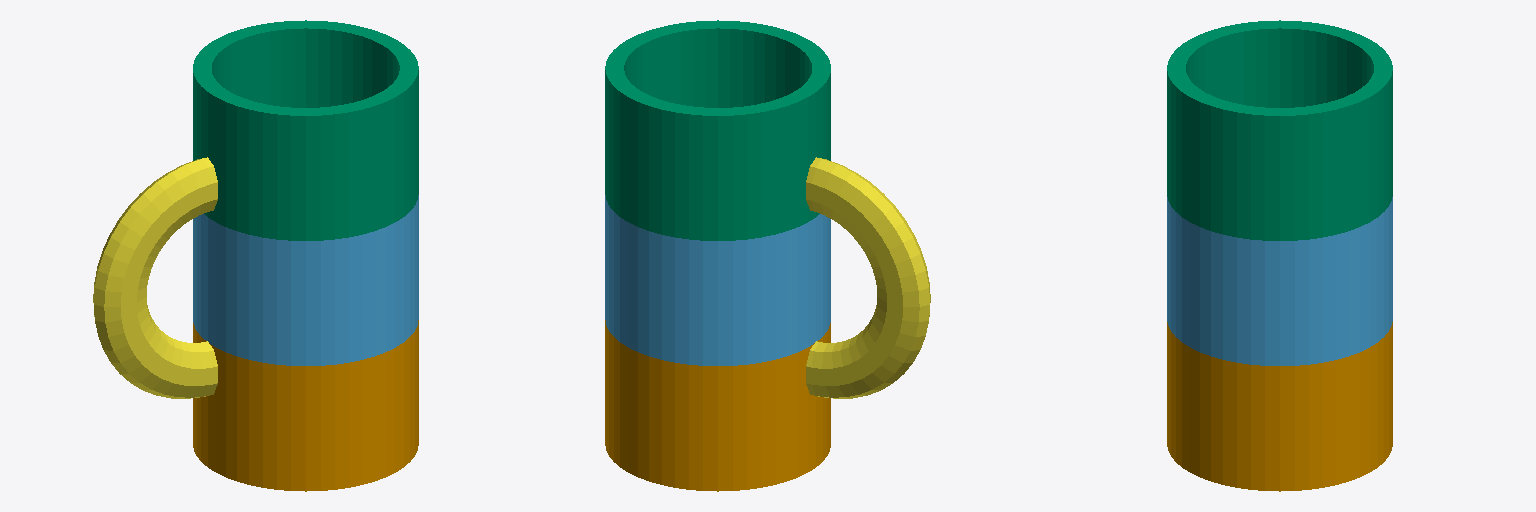
URDF robot description (cup_4link):
<?xml version="1.0"?>
<robot name="cup_4link">
  <link name="lower">
    <inertial>
      <origin xyz="2.9220873e-19 -4.67533967e-18 0.0138448607" rpy="0 0 0"/>
      <mass value="0.0837628298"/>
      <inertia ixx="3.66945625e-05" ixy="5.73661642e-23" ixz="8.42417438e-22" iyy="3.66945625e-05" iyz="1.10507475e-21" izz="5.23138016e-05"/>
    </inertial>
    <visual>
      <origin xyz="0 0 0" rpy="0 0 0"/>
      <geometry><mesh filename="meshes/lower.obj"/></geometry>
    </visual>
    <collision>
      <origin xyz="0 0 0" rpy="0 0 0"/>
      <geometry><mesh filename="meshes/lower.obj"/></geometry>
    </collision>
  </link>
  <link name="middle">
    <inertial>
      <origin xyz="6.98322515e-19 -8.18431941e-19 0.055" rpy="0 0 0"/>
      <mass value="0.0584167286"/>
      <inertia ixx="2.87527034e-05" ixy="5.29043515e-22" ixz="3.62044237e-21" iyy="2.87527034e-05" iyz="9.89541435e-22" izz="4.44157324e-05"/>
    </inertial>
    <visual>
      <origin xyz="0 0 0" rpy="0 0 0"/>
      <geometry><mesh filename="meshes/middle.obj"/></geometry>
    </visual>
    <collision>
      <origin xyz="0 0 0" rpy="0 0 0"/>
      <geometry><mesh filename="meshes/middle.obj"/></geometry>
    </collision>
  </link>
  <link name="upper">
    <inertial>
      <origin xyz="6.98322515e-19 -8.18431941e-19 0.0916666667" rpy="0 0 0"/>
      <mass value="0.0584167286"/>
      <inertia ixx="2.87527034e-05" ixy="5.29043515e-22" ixz="-1.35979056e-22" iyy="2.87527034e-05" iyz="-3.20509374e-21" izz="4.44157324e-05"/>
    </inertial>
    <visual>
      <origin xyz="0 0 0" rpy="0 0 0"/>
      <geometry><mesh filename="meshes/upper.obj"/></geometry>
    </visual>
    <collision>
      <origin xyz="0 0 0" rpy="0 0 0"/>
      <geometry><mesh filename="meshes/upper.obj"/></geometry>
    </collision>
  </link>
  <link name="handle">
    <inertial>
      <origin xyz="-0.0465291251 -7.22688493e-20 0.056" rpy="0 0 0"/>
      <mass value="0.0194037131"/>
      <inertia ixx="7.99033401e-06" ixy="-1.13225463e-22" ixz="-1.2238115e-20" iyy="9.66835772e-06" iyz="2.98304054e-23" izz="1.90512937e-06"/>
    </inertial>
    <visual>
      <origin xyz="0 0 0" rpy="0 0 0"/>
      <geometry><mesh filename="meshes/handle.obj"/></geometry>
    </visual>
    <collision>
      <origin xyz="0 0 0" rpy="0 0 0"/>
      <geometry><mesh filename="meshes/handle_collision.obj"/></geometry>
    </collision>
  </link>
  <joint name="lower_middle" type="fixed">
    <parent link="lower"/>
    <child link="middle"/>
    <origin xyz="0 0 0" rpy="0 0 0"/>
  </joint>
  <joint name="middle_upper" type="fixed">
    <parent link="middle"/>
    <child link="upper"/>
    <origin xyz="0 0 0" rpy="0 0 0"/>
  </joint>
  <joint name="middle_handle" type="fixed">
    <parent link="middle"/>
    <child link="handle"/>
    <origin xyz="0 0 0" rpy="0 0 0"/>
  </joint>
</robot>

--- Facts derived from the render (not from the file) ---
3 views of the same robot in one strip: view 1: azimuth 30°, elevation 25°; view 2: azimuth 150°, elevation 25°; view 3: azimuth 270°, elevation 25° (orthographic).
Model cup_4link with 4 links and 3 joints (3 fixed), rooted at lower, posed every joint at zero.
Links seen in each view (by area): view 1: upper, middle, lower, handle; view 2: upper, middle, lower, handle; view 3: upper, lower, middle.
Boxes of the visible links, x1,y1,x2,y2 form: upper: [193, 20, 418, 240]; middle: [193, 195, 418, 365]; lower: [193, 320, 418, 491]; handle: [93, 157, 217, 398]; upper: [605, 20, 830, 240]; middle: [605, 195, 830, 365]; lower: [605, 320, 830, 491]; handle: [806, 157, 930, 398]; upper: [1167, 20, 1392, 240]; lower: [1167, 322, 1392, 491]; middle: [1167, 197, 1392, 365].
Bounding box of the posed robot: 0.095 × 0.06 × 0.11 m (x, y, z).
4 mesh visuals loaded from 4 distinct referenced files (4 OBJ).
